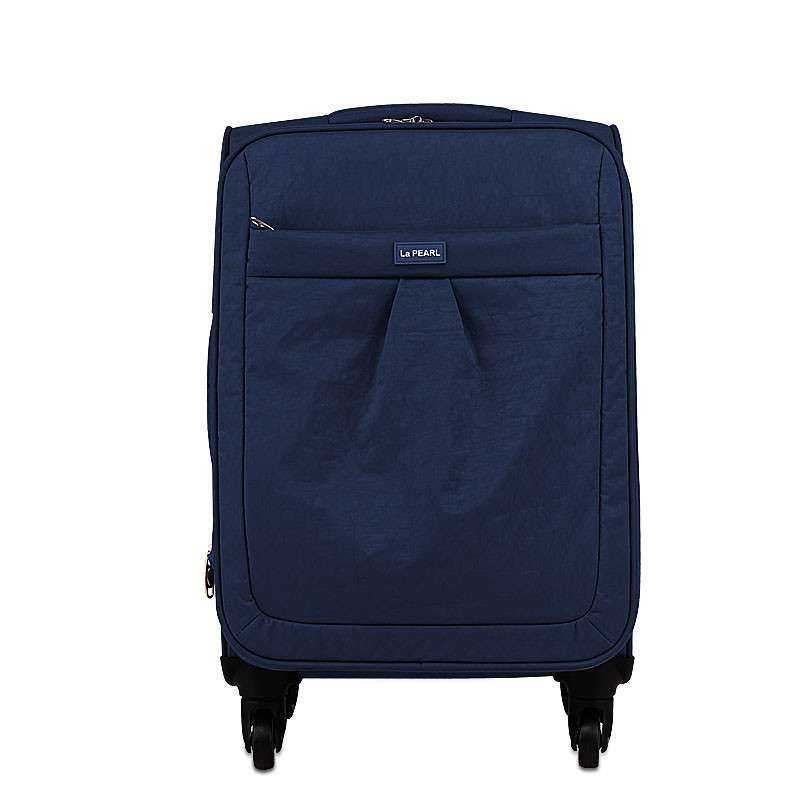suitcase: (203, 101, 645, 772)
